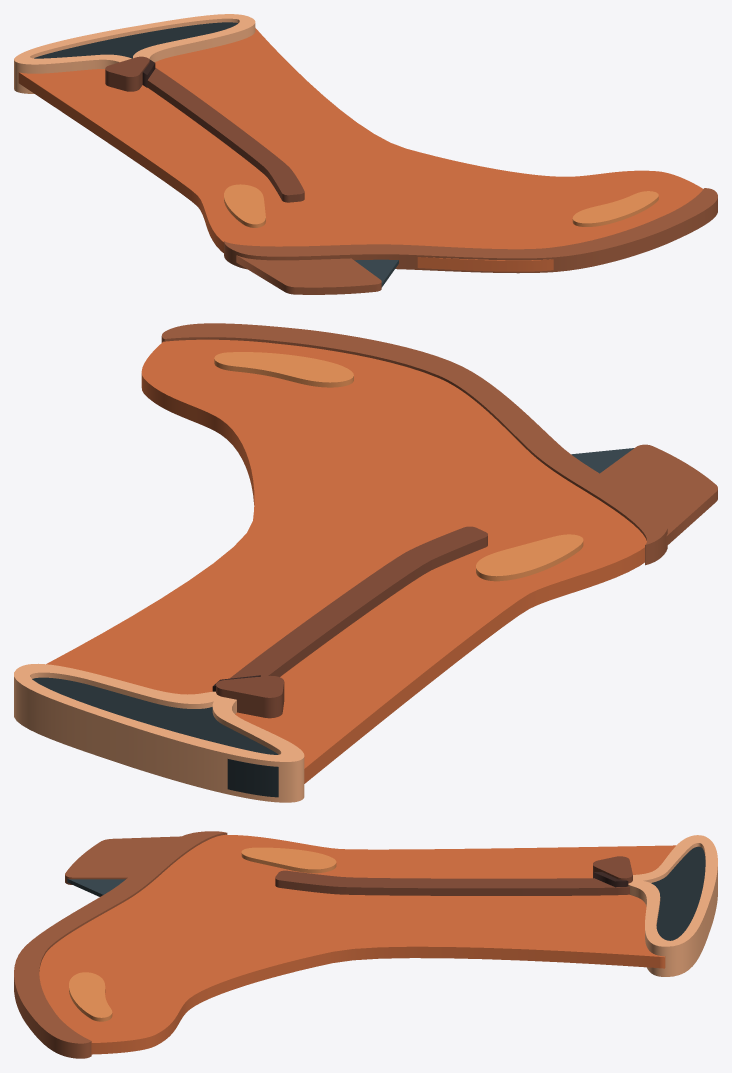
File: emoji_u1f462.glb
3 renders of one model, top to bottom at view 1: azimuth 30°, elevation 25°; view 2: azimuth 150°, elevation 25°; view 3: azimuth 270°, elevation 25°, orthographic. The views are drawn at different scales.
Visible parts, largest first — view 1: emoji_u1f462; view 2: emoji_u1f462; view 3: emoji_u1f462.
Part boxes in pixels (x1,y1,x2,y2): emoji_u1f462: (14,14,717,294); emoji_u1f462: (14,323,717,802); emoji_u1f462: (14,831,717,1058).
Size of the model in its own units: 0.024 by 0.0022 by 0.0336.
